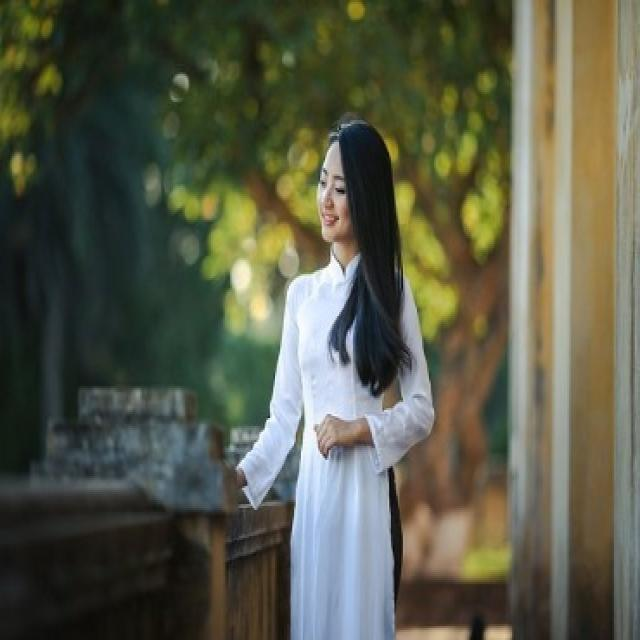adult: (244, 117, 427, 640)
